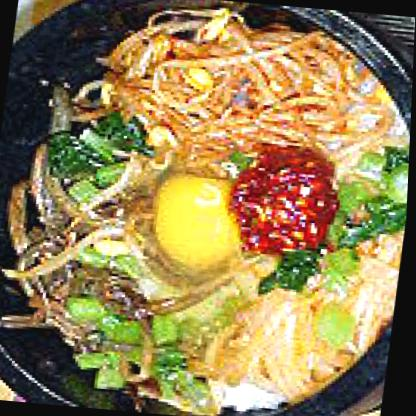bibimbap: (0, 5, 415, 415)
